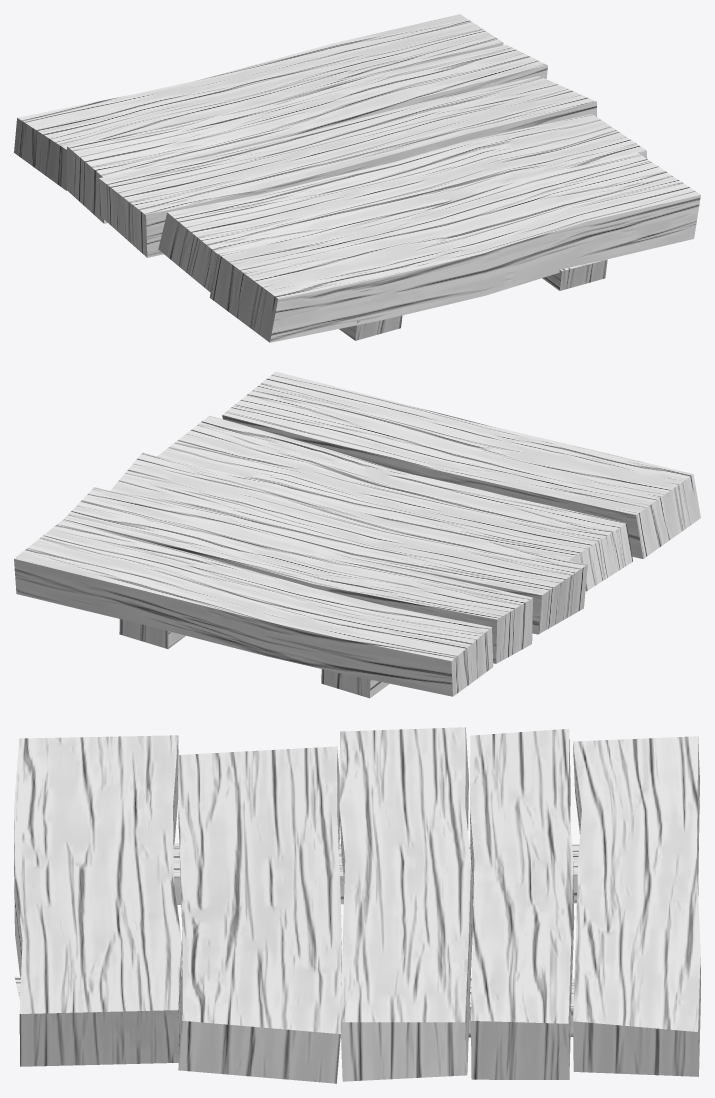
Rendered from ARC0110024.fbx.
The picture shows the model from 3 angles, top to bottom: view 1: azimuth 30°, elevation 25°; view 2: azimuth 150°, elevation 25°; view 3: azimuth 270°, elevation 25°; orthographic projection. The views are drawn at different scales.
Visible parts, largest first — view 1: smARC0110024; view 2: smARC0110024; view 3: smARC0110024.
Part boxes in pixels (box(x1,y1,x2,y2)): smARC0110024: box(14, 14, 700, 342); smARC0110024: box(14, 371, 700, 698); smARC0110024: box(14, 727, 700, 1083).
Size of the model in its own units: 127 by 18.18 by 124.
Materials: 1 (1 with a texture image).
